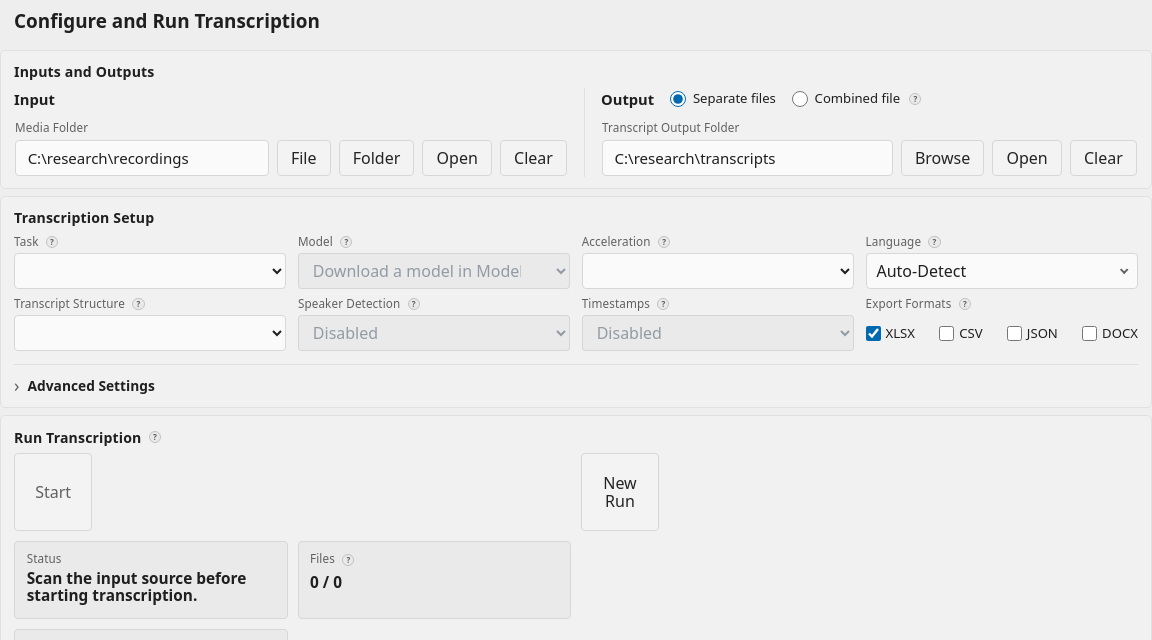
it: Transcription Inputs and Outputs › opens Advanced settings as an accordion without output naming controls
This screenshot has width=1152, height=640.
Click the button "› Advanced Settings": (84, 386) [14,376,155,396]
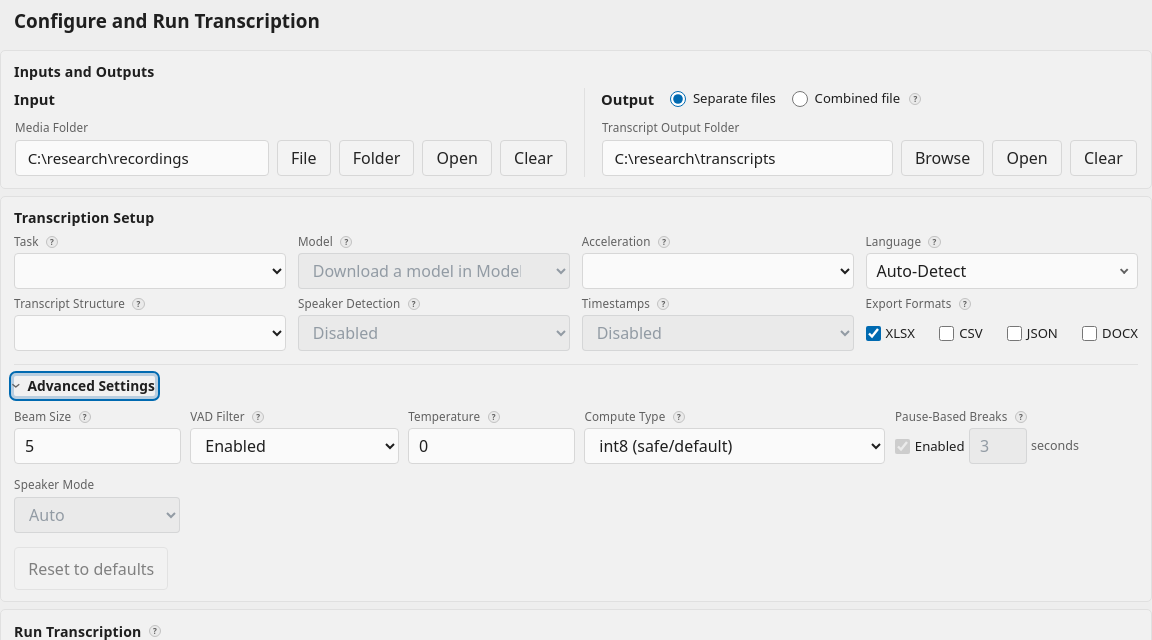
Check: the button "› Advanced Settings" is expanded, box [14,376,155,396]
Check: the number field labelled "Beam Size" is shown, box [14,428,181,464]
Check: the dropdown labelled "Speaker Mode" is disabled, box [14,497,180,533]
